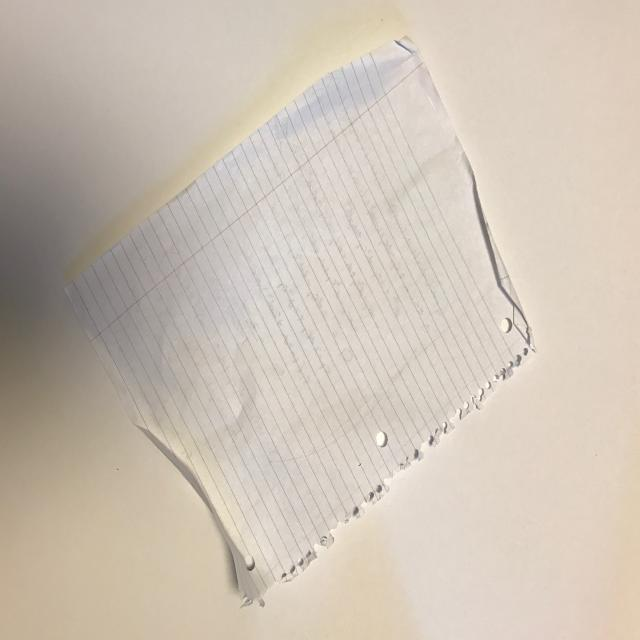paper: (63, 36, 538, 606)
